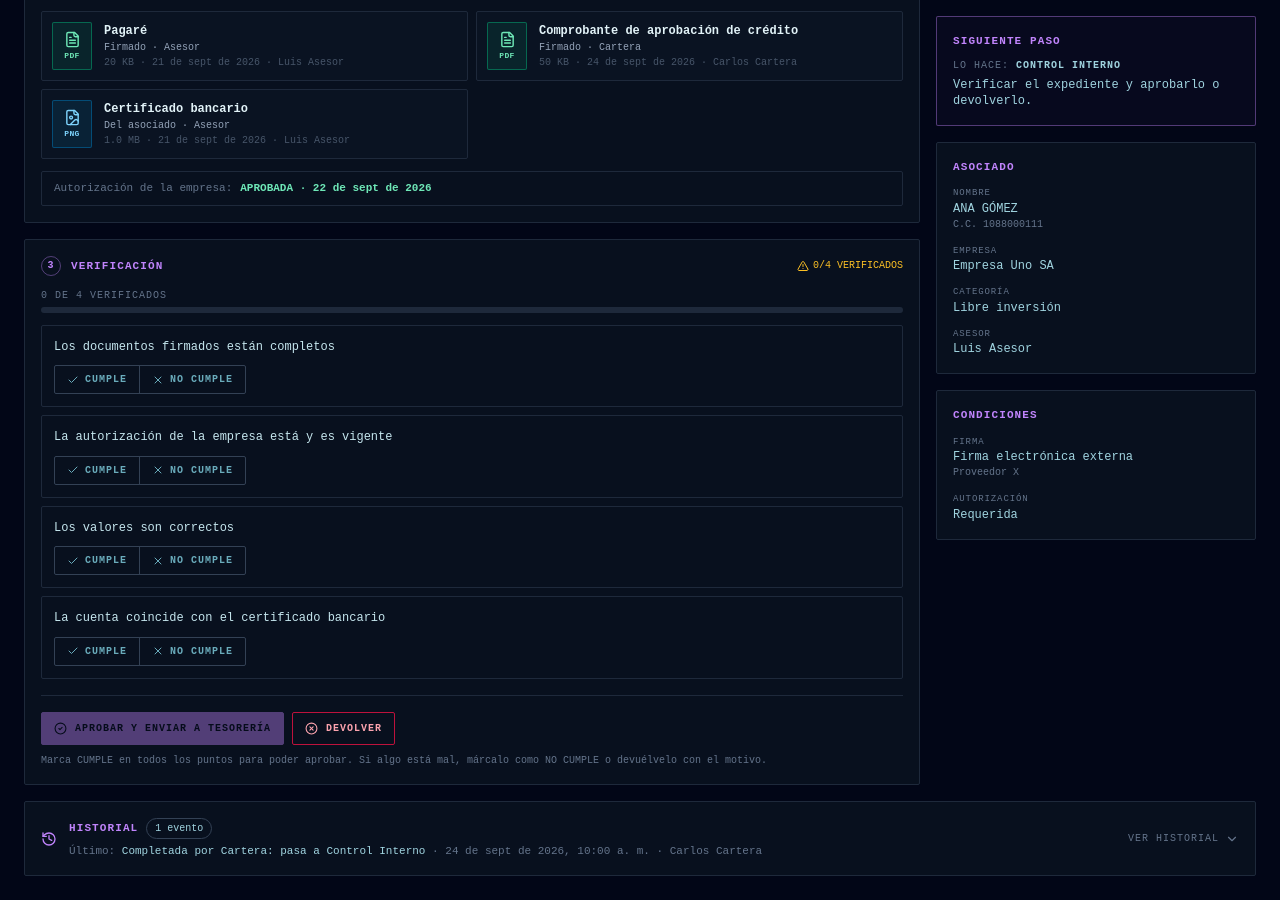
Test: Control Interno — verificación punto por punto › el destino de la devolución es una tarjeta seleccionable con radio real
(page scrolled)
Click the button "DEVOLVER".
click(344, 728)  # box [292, 712, 395, 745]
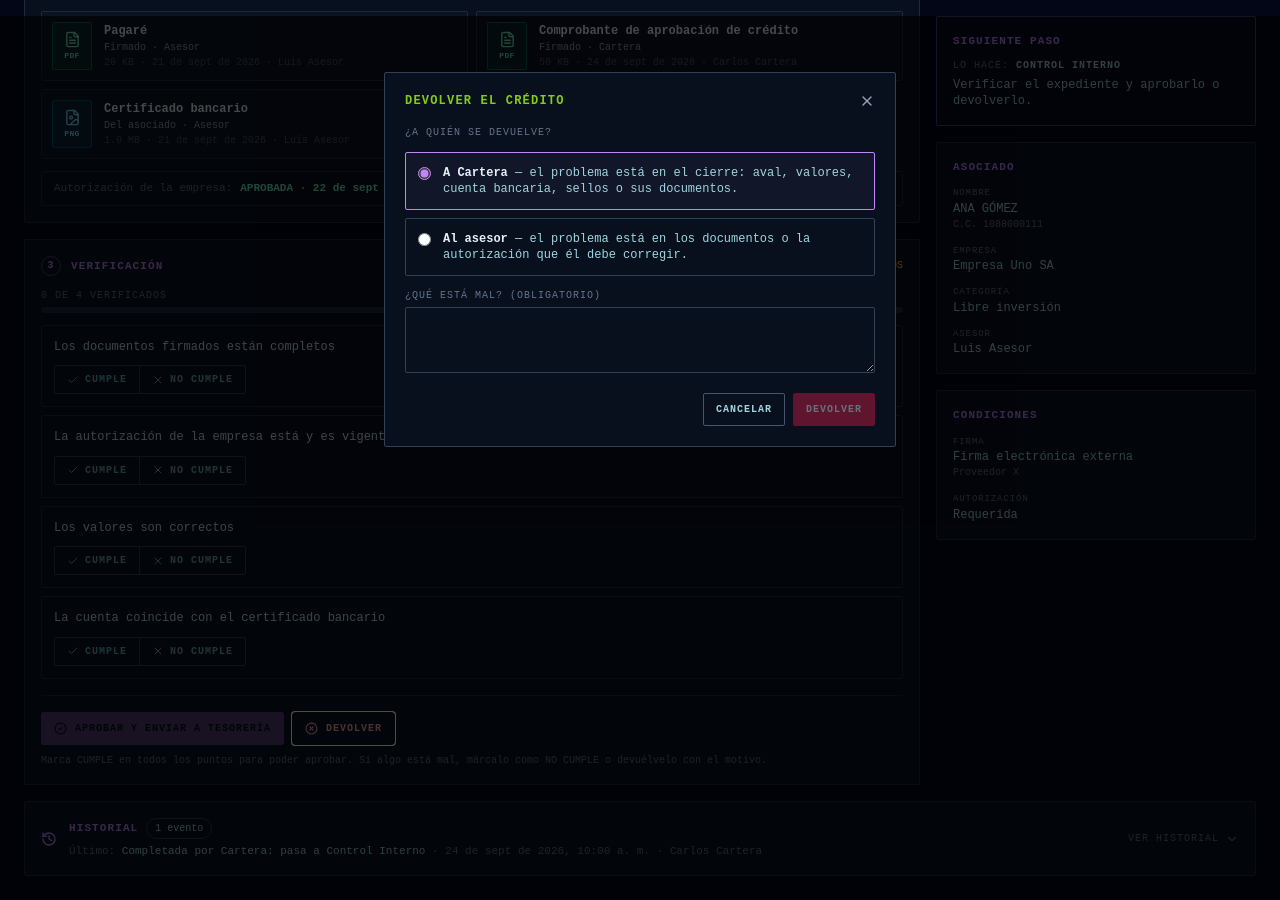
expect the number of radio buttons is 2: met, box [418, 167, 431, 180]; [418, 233, 431, 246]
expect the radio button labelled "A Cartera" is checked: met, box [418, 167, 431, 180]
Click the text "Al asesor".
click(475, 239)  # box [443, 232, 508, 246]
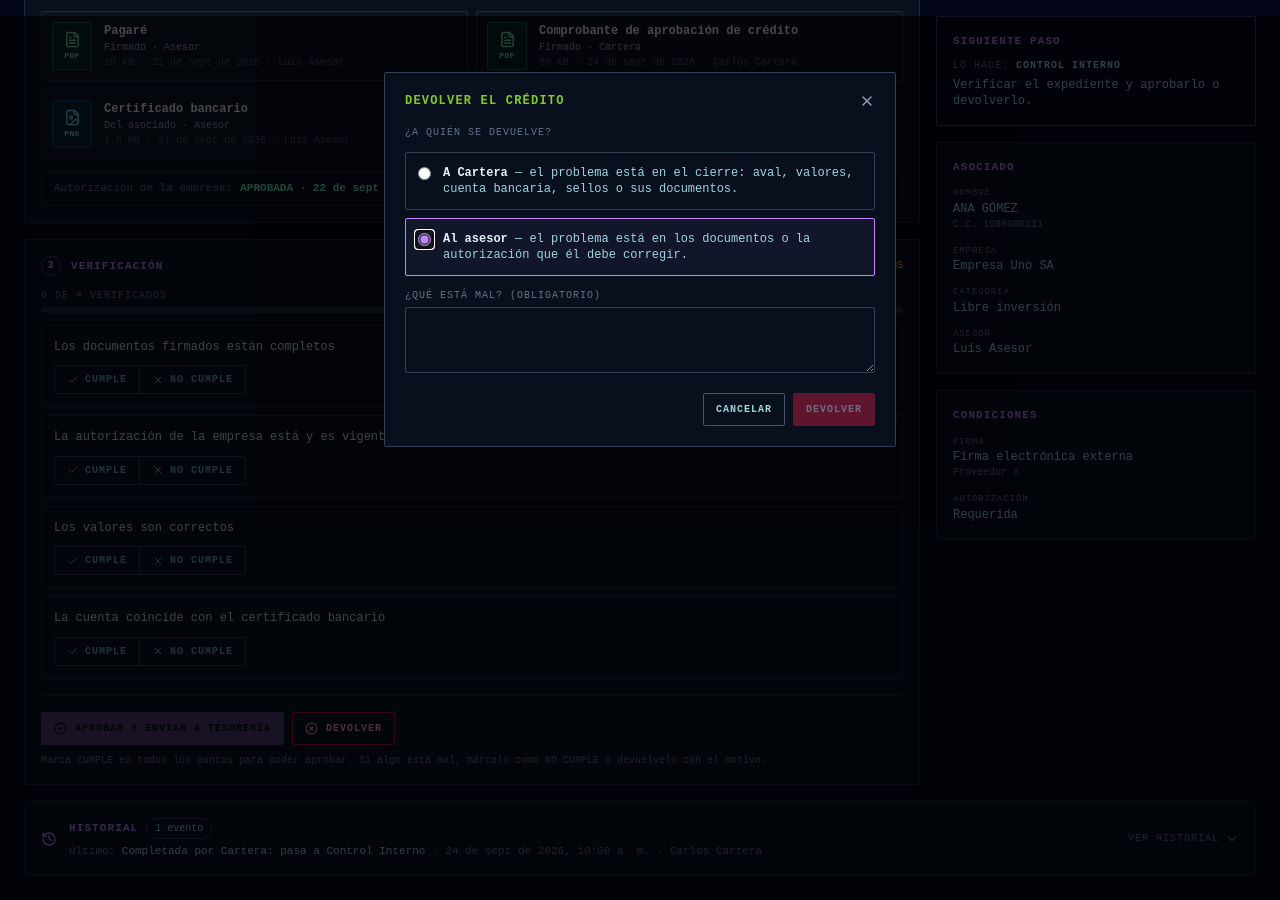
expect the radio button labelled "Al asesor" is checked: met, box [418, 233, 431, 246]
